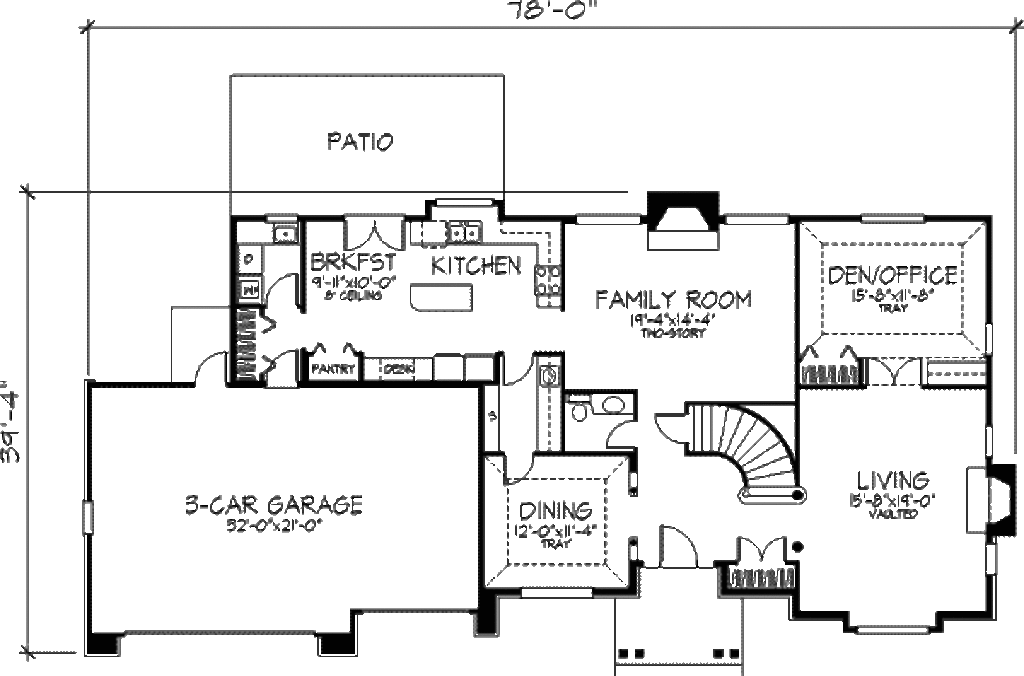door: (727, 530, 796, 571), (339, 219, 414, 256), (657, 522, 705, 570), (864, 354, 924, 390), (184, 348, 232, 389), (498, 452, 545, 490), (266, 343, 303, 385), (264, 269, 301, 308), (499, 350, 536, 385), (655, 412, 689, 447), (604, 419, 639, 449)
large_sink: (563, 394, 590, 425)
small_sink: (268, 217, 305, 247), (595, 394, 634, 415)
stairs: (688, 402, 820, 512)
twin_sink: (447, 220, 491, 248)
window: (854, 205, 933, 228), (519, 585, 596, 601), (78, 494, 99, 545), (856, 620, 931, 634), (429, 193, 490, 210)
